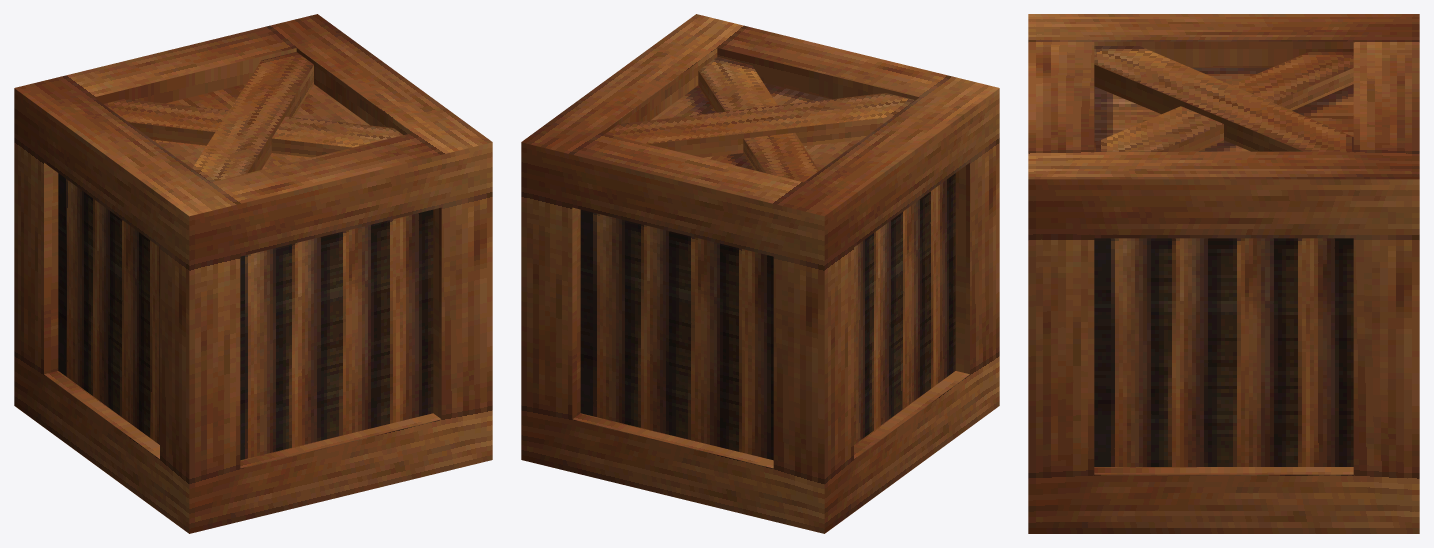
File: jumpBox.fbx
3 views of the same model, side by side, from view 1: azimuth 30°, elevation 25°; view 2: azimuth 150°, elevation 25°; view 3: azimuth 270°, elevation 25° (orthographic). The views are drawn at different scales.
Visible parts, largest first — view 1: bouncing_crate; view 2: bouncing_crate; view 3: bouncing_crate.
Part boxes in pixels (bbox=[...]): bouncing_crate: bbox=[14, 14, 492, 533]; bouncing_crate: bbox=[521, 14, 999, 533]; bouncing_crate: bbox=[1028, 14, 1419, 533].
Bounding box in the file's own units: 500 × 500 × 500.
